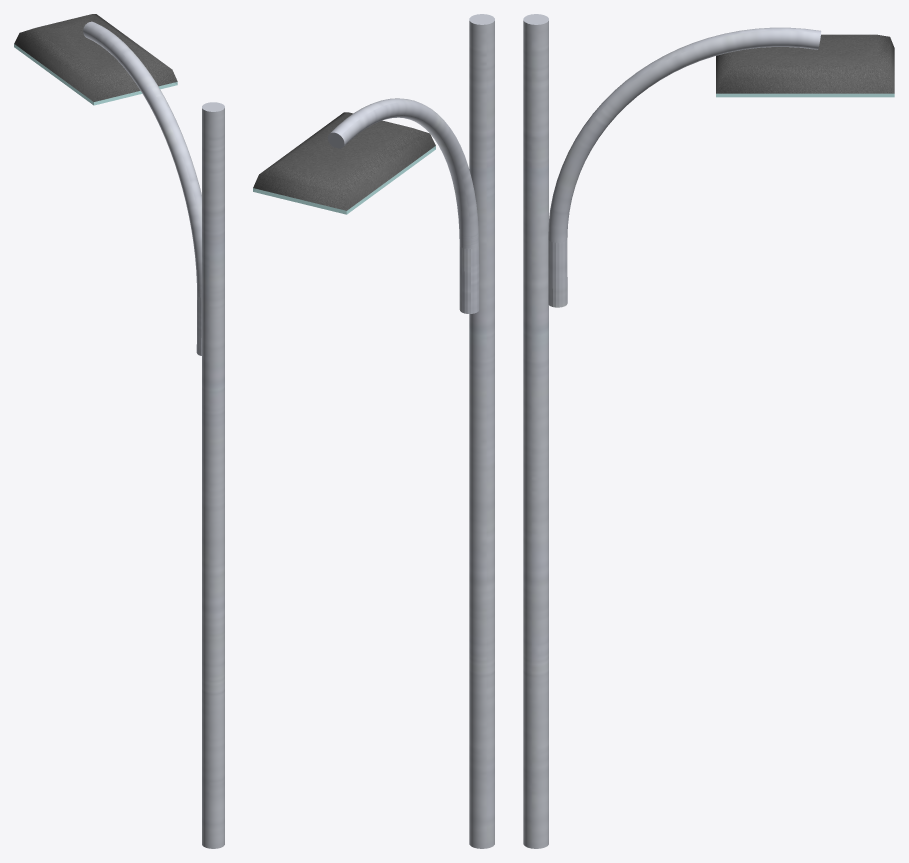
Rendered from light.FBX.
3 renders of one model, left to right at view 1: azimuth 30°, elevation 25°; view 2: azimuth 150°, elevation 25°; view 3: azimuth 270°, elevation 25°, orthographic. The views are drawn at different scales.
Visible parts, largest first — view 1: Box001, 对象002, 对象001; view 2: Box001, 对象002, 对象001; view 3: Box001, 对象002, 对象001.
Boxes of the visible parts, x1=… form: Box001: x1=83, y1=21, x2=224, y2=848; 对象002: x1=14, y1=14, x2=177, y2=101; 对象001: x1=14, y1=44, x2=177, y2=105; Box001: x1=327, y1=14, x2=494, y2=848; 对象002: x1=253, y1=112, x2=435, y2=210; 对象001: x1=253, y1=146, x2=435, y2=214; Box001: x1=523, y1=14, x2=821, y2=848; 对象002: x1=716, y1=34, x2=894, y2=93; 对象001: x1=716, y1=93, x2=894, y2=97.
Size of the model in its own units: 16.68 by 140 by 57.13.
Materials: 3 (2 with a texture image).
